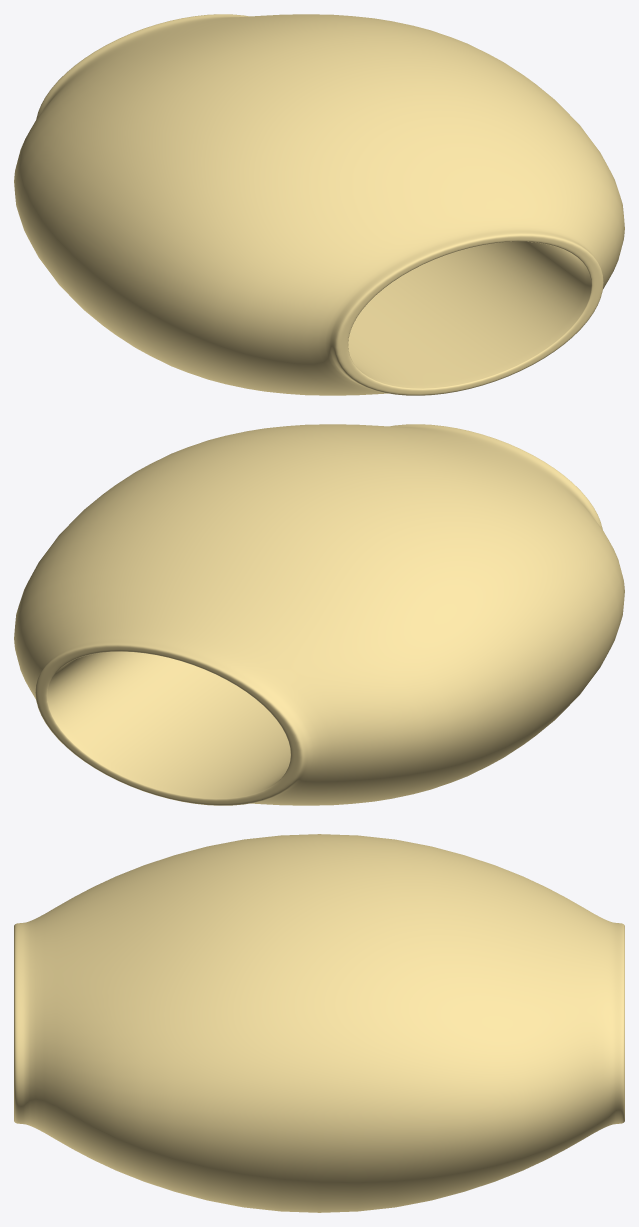
Rendered from Honesty_6mm.glb.
3 renders of one model, top to bottom at view 1: azimuth 30°, elevation 25°; view 2: azimuth 150°, elevation 25°; view 3: azimuth 270°, elevation 25°, orthographic.
Visible parts, largest first — view 1: Honesty_6mm_Hole; view 2: Honesty_6mm_Hole; view 3: Honesty_6mm_Hole.
Boxes of the visible parts, left/top/right/bottom form: Honesty_6mm_Hole: left=14, top=14, right=624, bottom=395; Honesty_6mm_Hole: left=14, top=424, right=624, bottom=805; Honesty_6mm_Hole: left=14, top=834, right=624, bottom=1212.
Size of the model in its own units: 0.00551 by 0.00309 by 0.00588.
